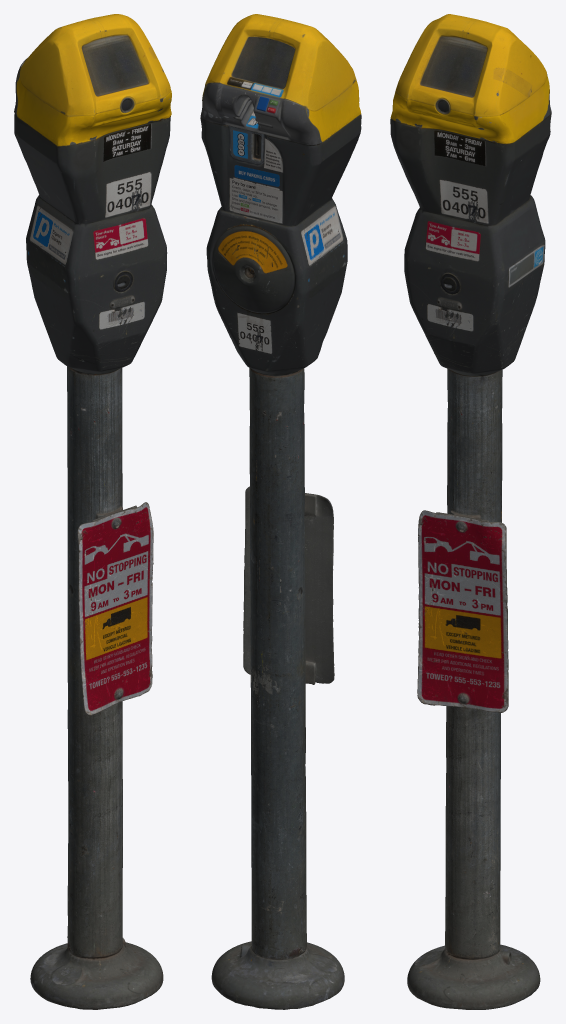
File: meter.glb
3 views of the same model, side by side, from view 1: azimuth 30°, elevation 25°; view 2: azimuth 150°, elevation 25°; view 3: azimuth 330°, elevation 25° (orthographic).
Visible parts, largest first — view 1: Aset_other_various_M_ujyvbgofa_LOD0; view 2: Aset_other_various_M_ujyvbgofa_LOD0; view 3: Aset_other_various_M_ujyvbgofa_LOD0.
Part boxes in pixels (x1=…): Aset_other_various_M_ujyvbgofa_LOD0: x1=14, y1=14, x2=171, y2=1009; Aset_other_various_M_ujyvbgofa_LOD0: x1=200, y1=14, x2=361, y2=1009; Aset_other_various_M_ujyvbgofa_LOD0: x1=390, y1=14, x2=551, y2=1009.
Bounding box in the file's own units: 0.1959 × 1.5 × 0.1921.
Materials: 1 (1 with a texture image).
